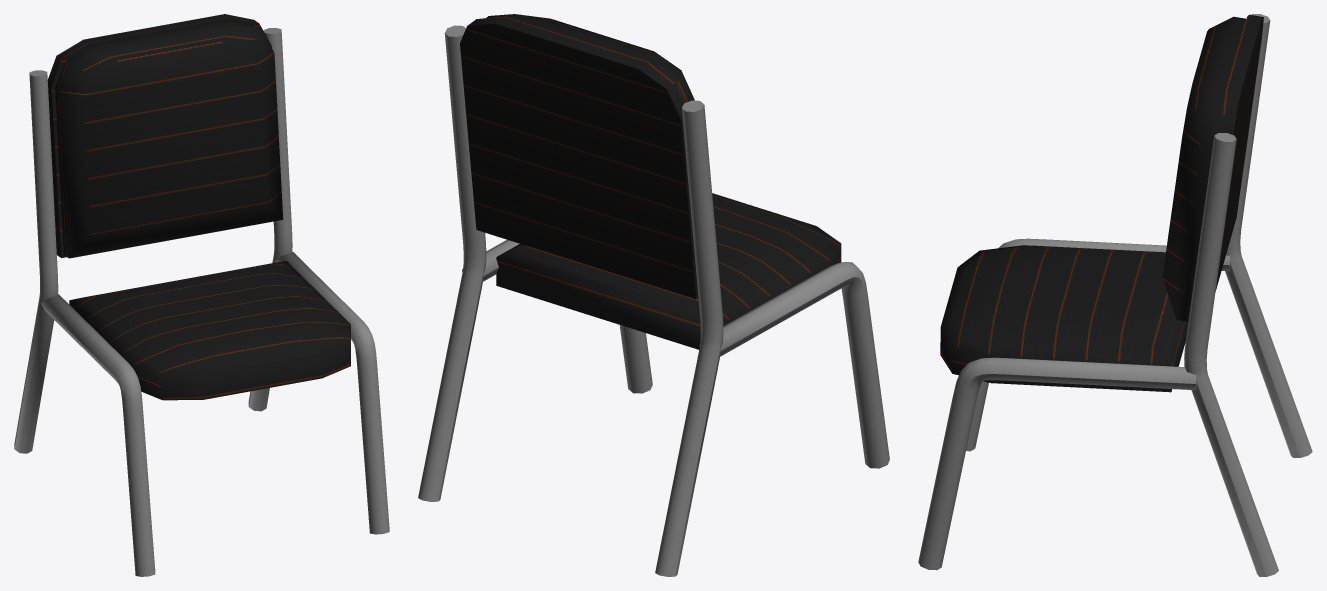
Rendered from Chaise.fbx.
3 views of the same model, side by side, from view 1: azimuth 30°, elevation 25°; view 2: azimuth 150°, elevation 25°; view 3: azimuth 270°, elevation 25° (orthographic). The views are drawn at different scales.
Visible parts, largest first — view 1: Cube.002; view 2: Cube.002; view 3: Cube.002.
Boxes of the visible parts, <box> form: Cube.002: <box>14,14,389,576</box>; Cube.002: <box>418,14,889,576</box>; Cube.002: <box>918,14,1312,576</box>.
Size of the model in its own units: 109 by 125 by 164.
